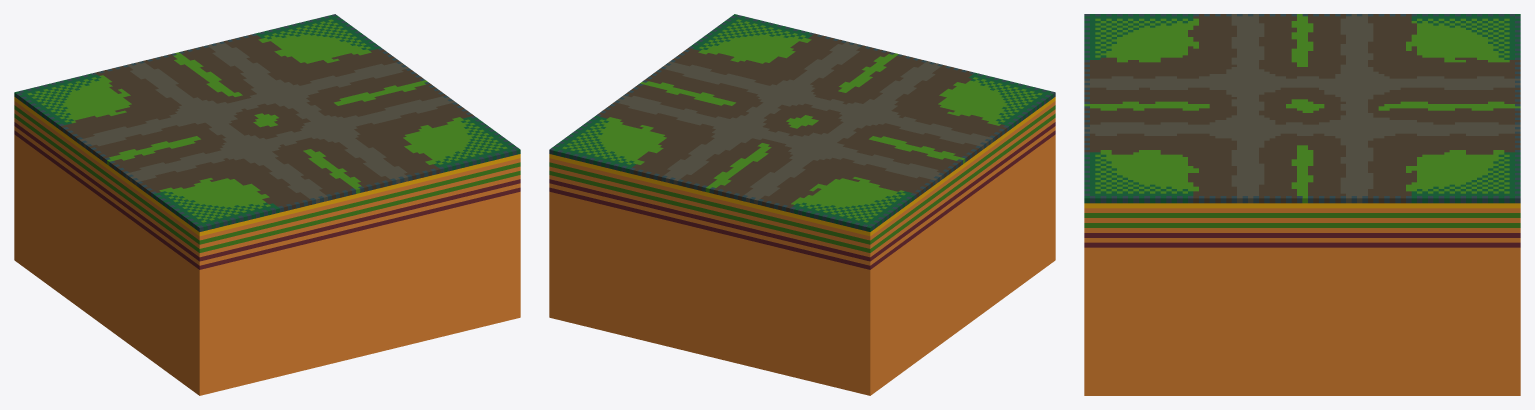
The model's file is dirt_road_4_tile.obj.
3 views of the same model, side by side, from view 1: azimuth 30°, elevation 25°; view 2: azimuth 150°, elevation 25°; view 3: azimuth 270°, elevation 25° (orthographic). The views are drawn at different scales.
Bounding box in the file's own units: 8 × 4 × 8.
1 material, 1 textured.
